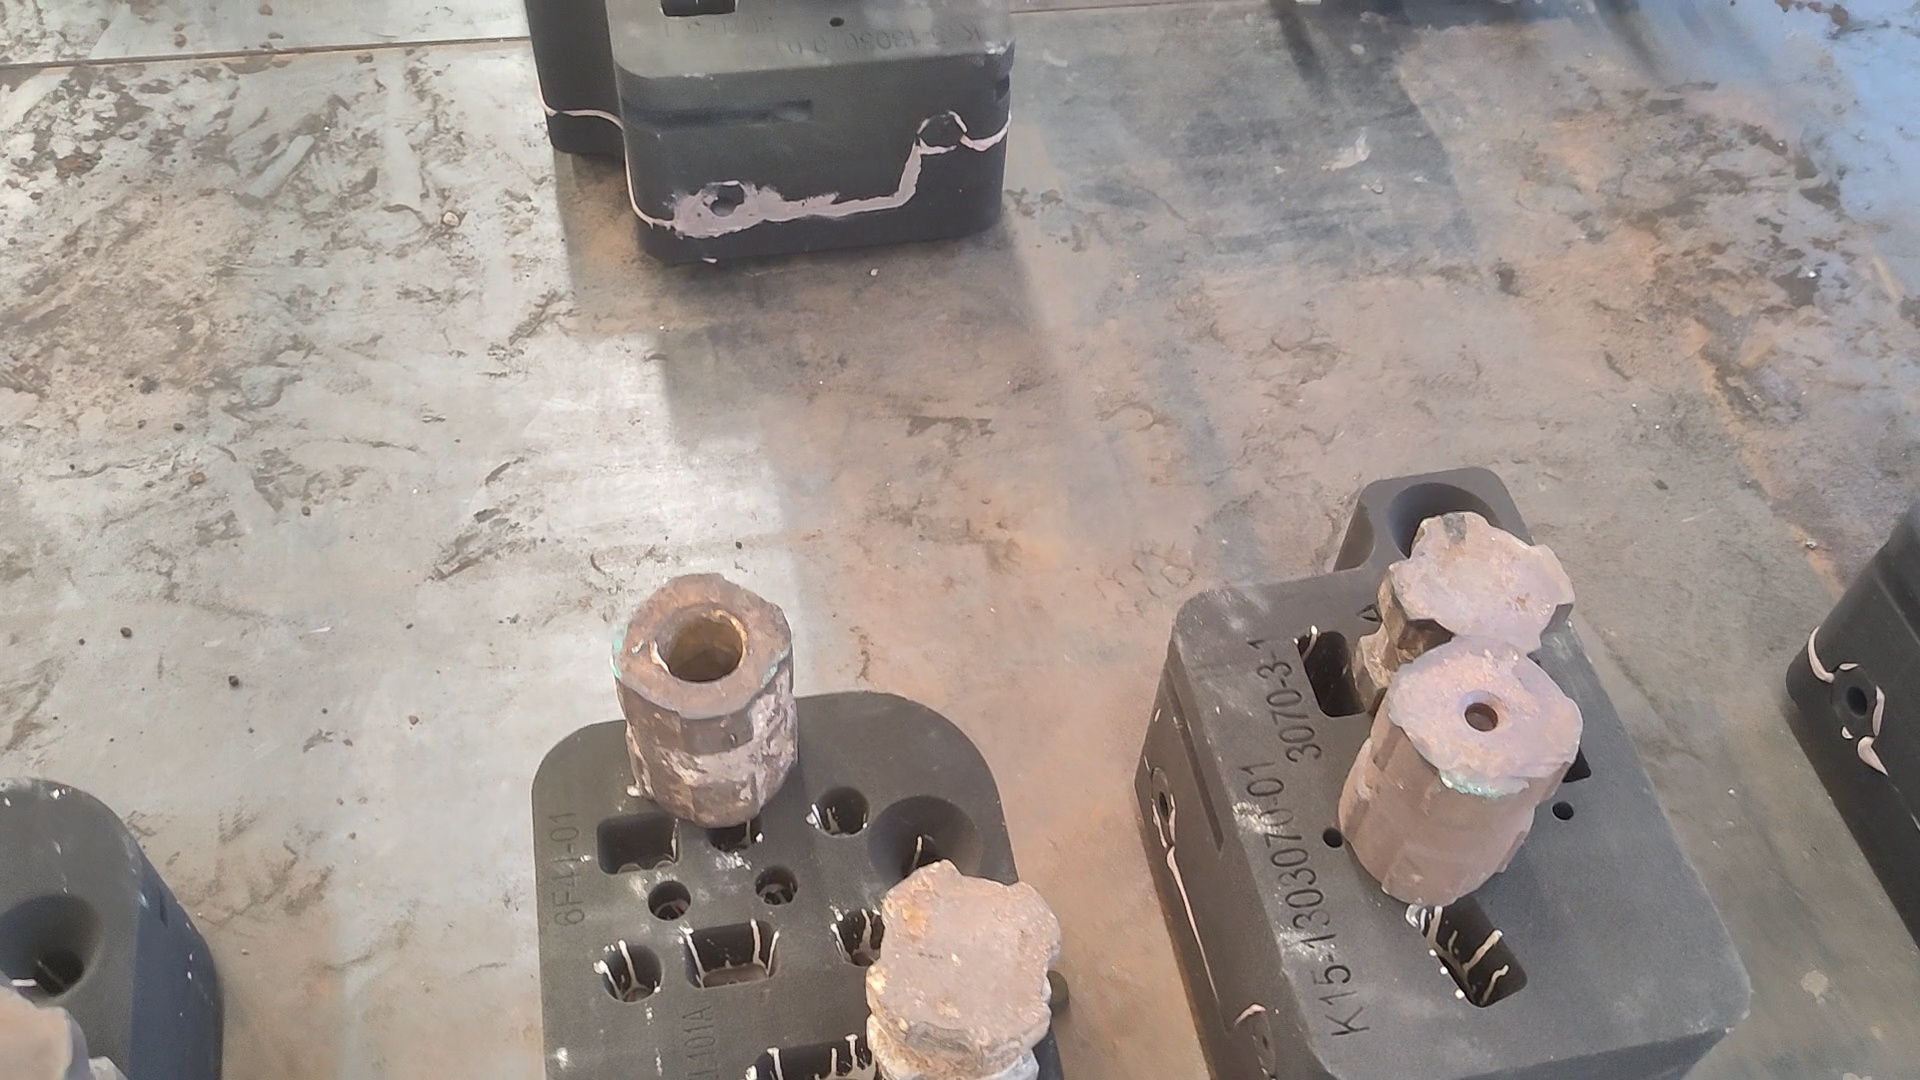pouring hole: (866, 795, 981, 895), (1, 891, 103, 1004), (1385, 483, 1501, 563)
